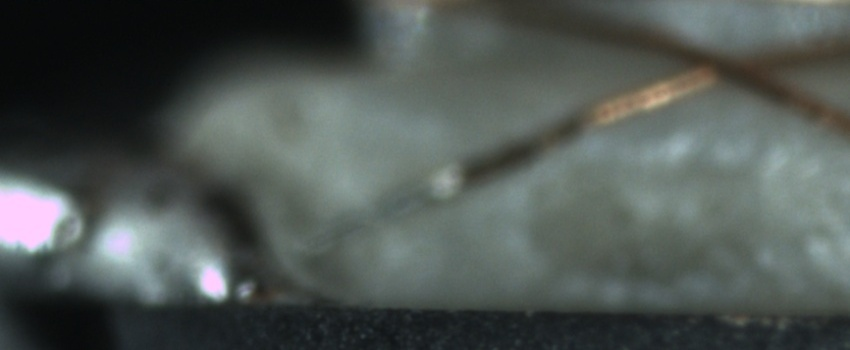CL: (668, 37, 791, 90)
DL: (561, 118, 840, 180)
